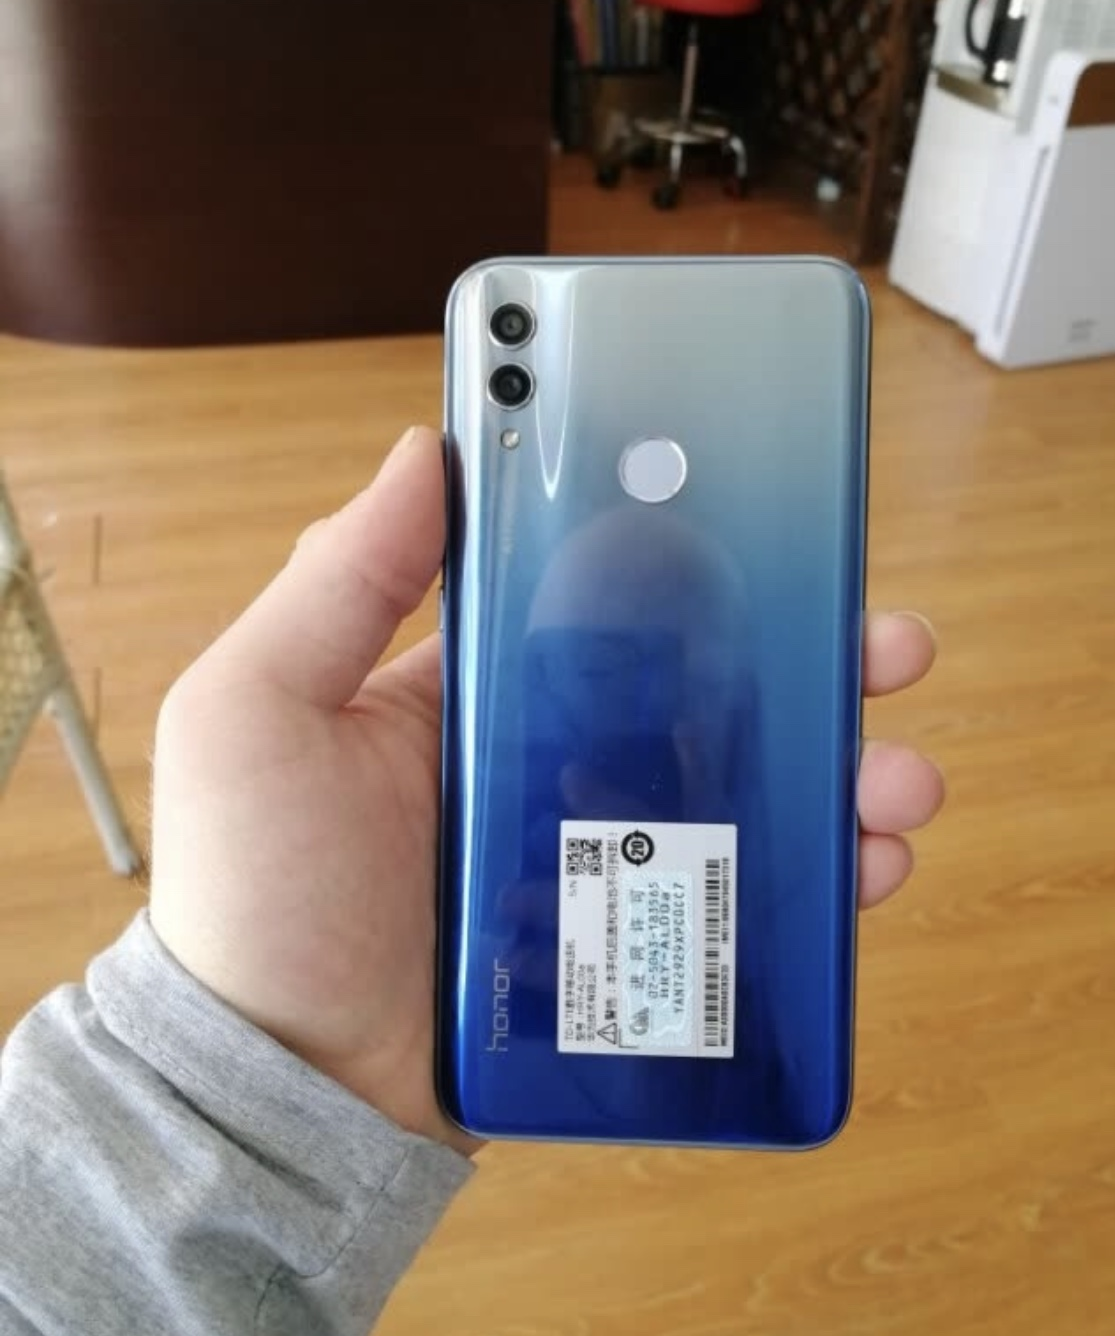mobil: (430, 245, 873, 1156)
